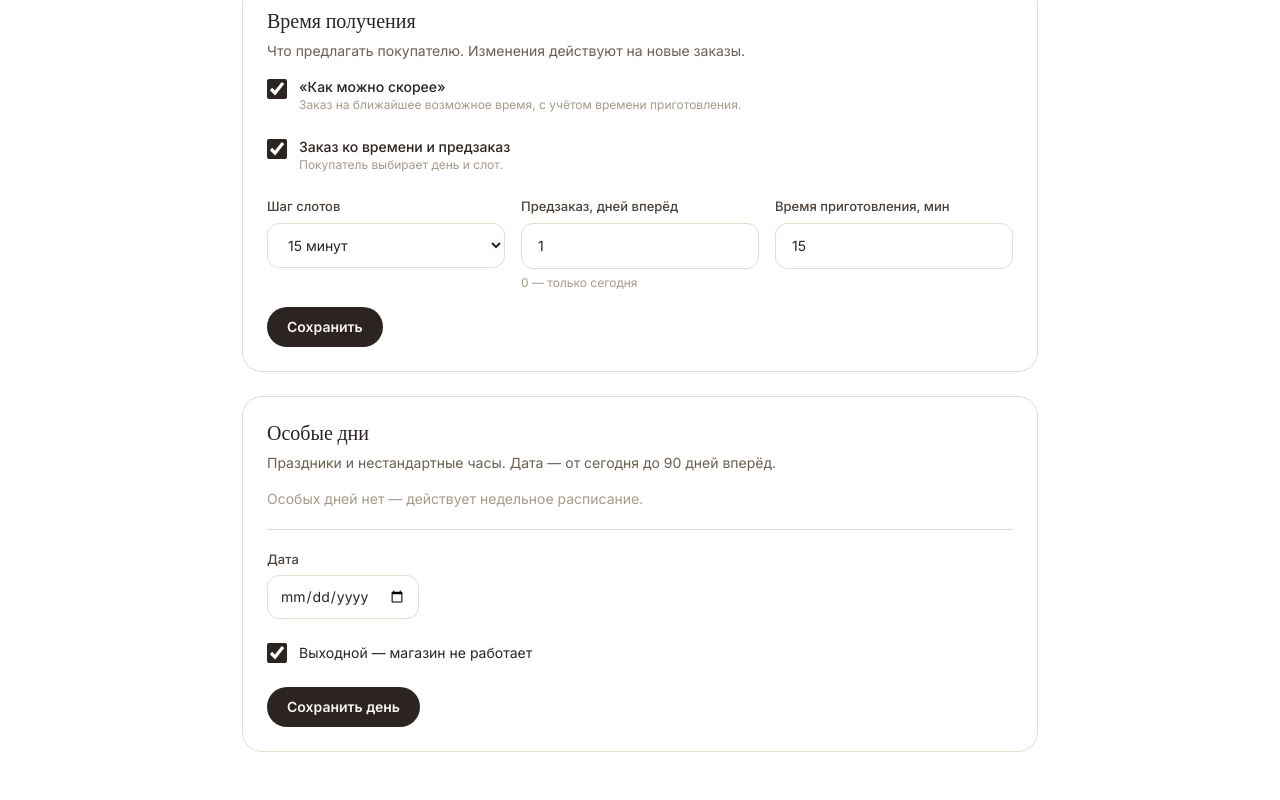
Scenario: SpecialDays (P1) › on 409 ScheduleConflictsWithOrders shows the orders and repeats with confirmConflicts only after the owner agrees
(page scrolled)
Check: the heading "Особые дни" is shown, box [267,424,369,444]
Type "2026-10-02" into the date field labelled "Дата".
click(343, 597); type("2026-10-02")  # box [267,575,419,619]
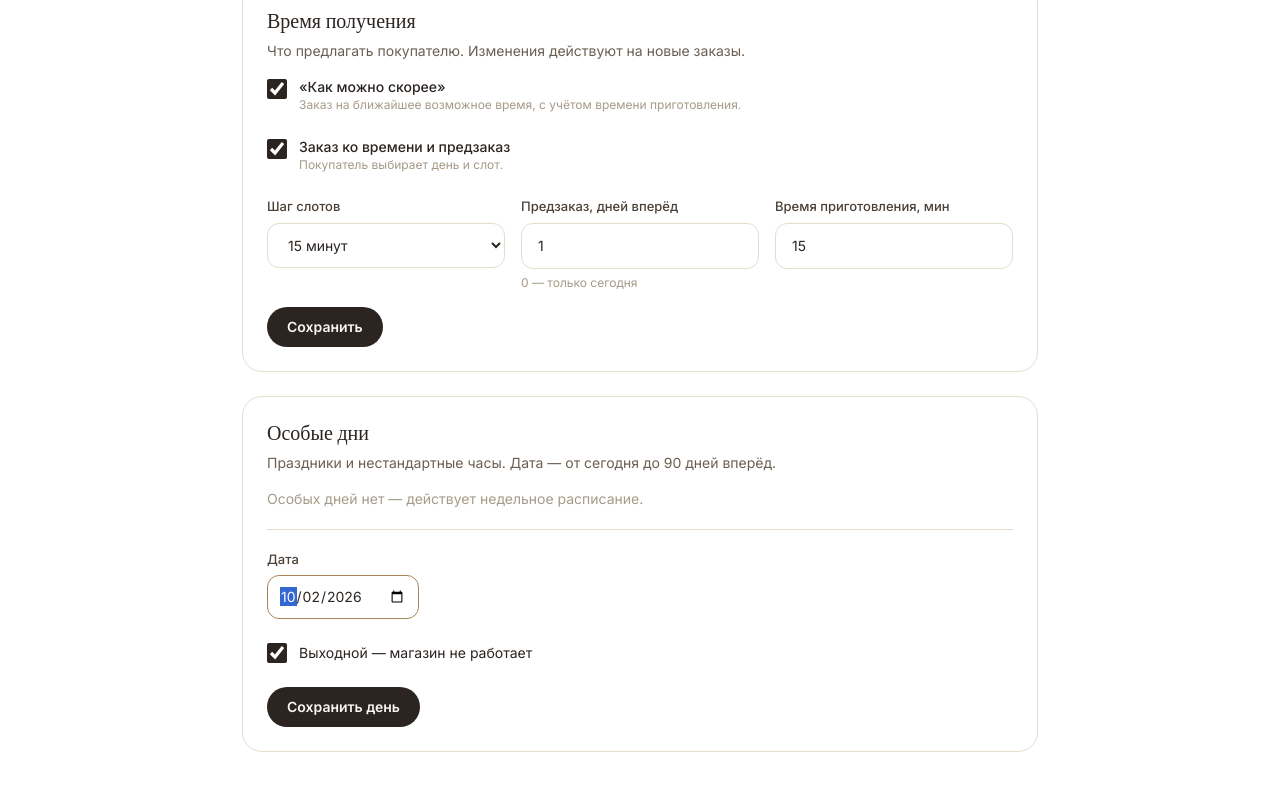
Click the button "Сохранить день".
click(344, 707)  # box [267,687,420,727]
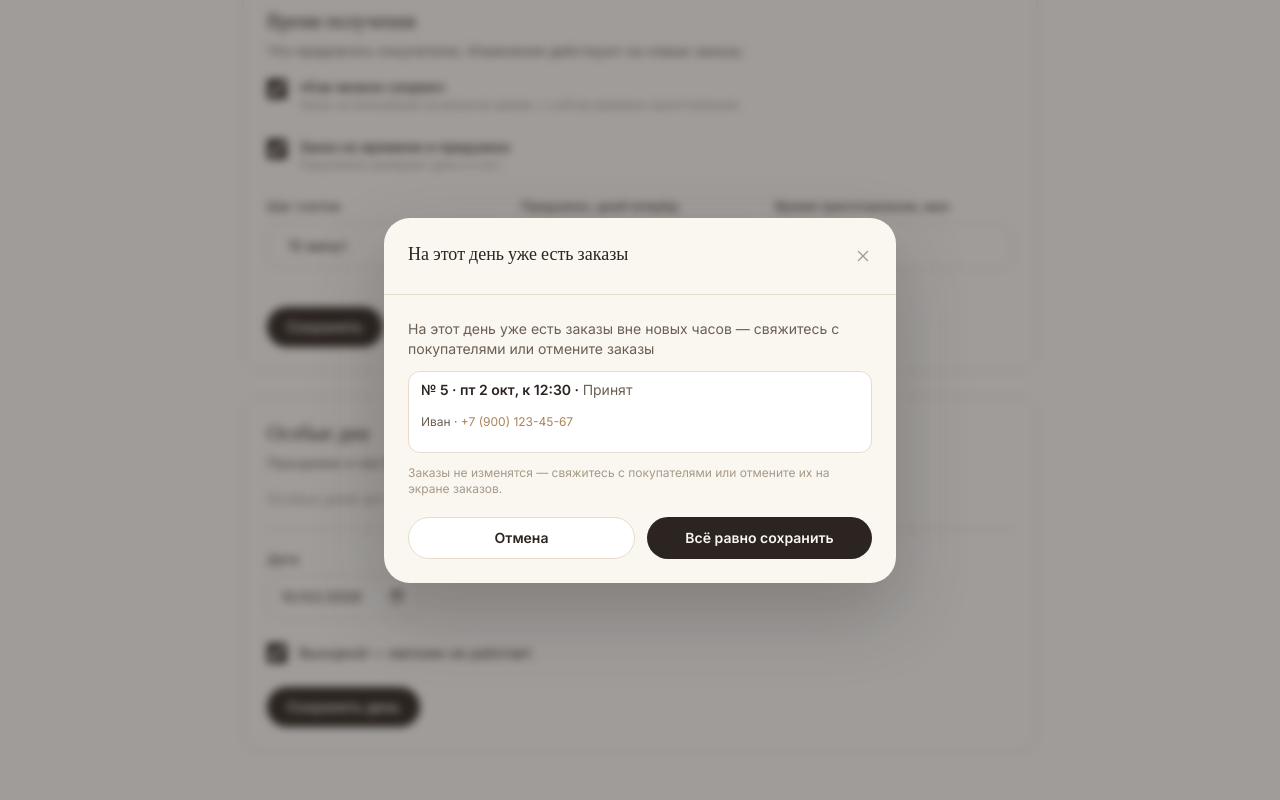
Check: the text with test id "conflict-message" shows "свяжитесь с покупателями", box [408,320,839,356]
Check: the text "№ 5 · пт 2 окт, к 12:30 · Принят" is shown, box [421,380,632,398]
Click the button "Всё равно сохранить".
click(760, 538)  # box [647,516,872,558]
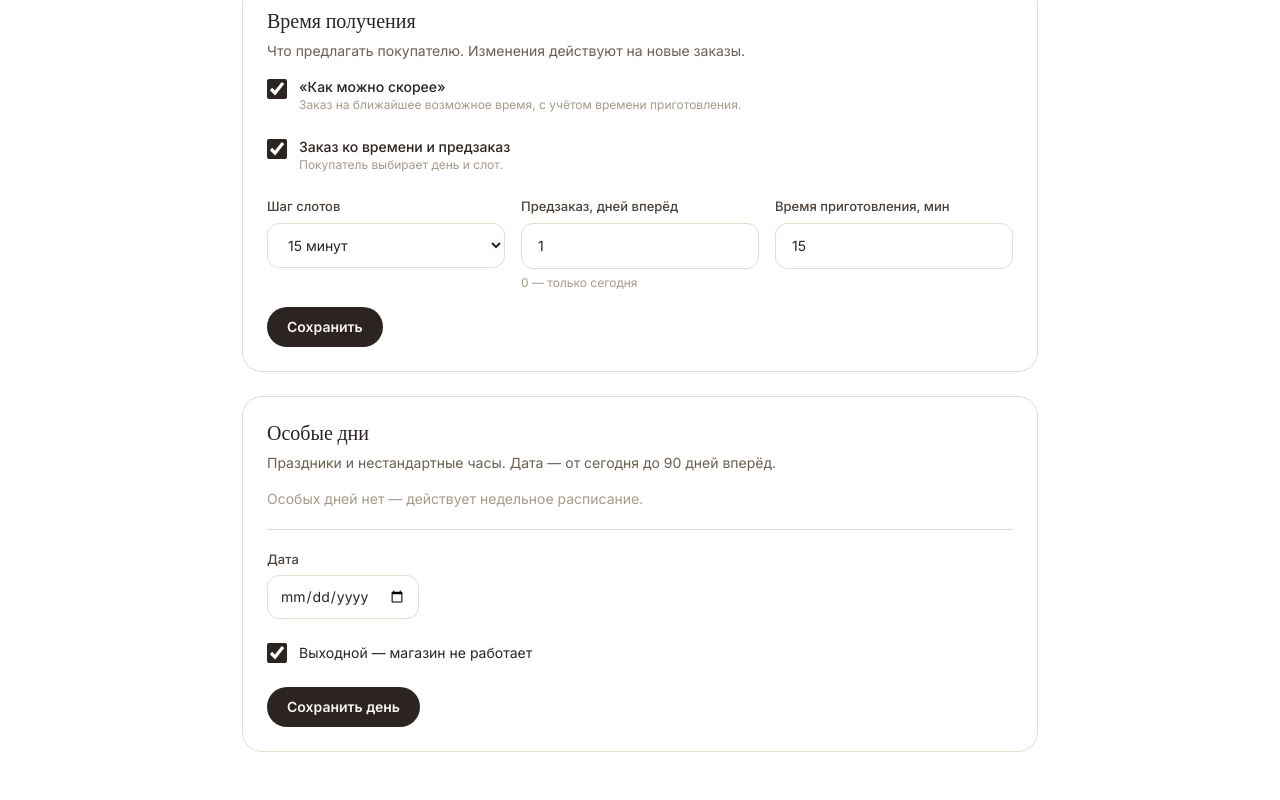
Check: the dialog is gone
